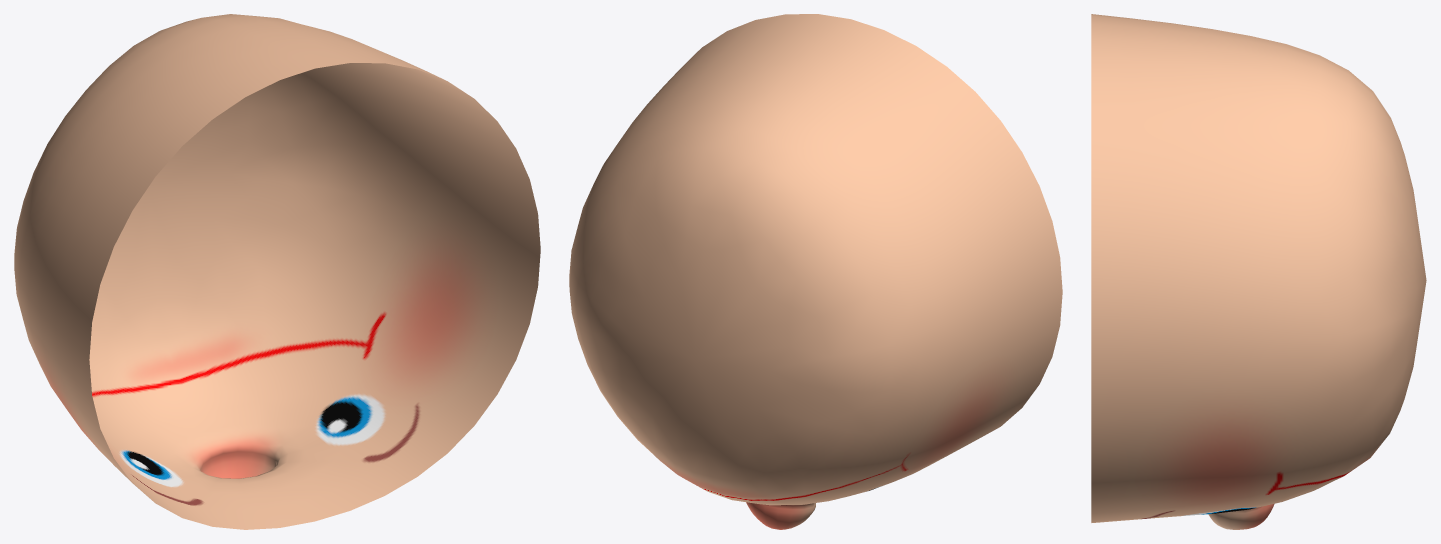
File: BuffoonHeadSkin.obj
3 renders of one model, left to right at view 1: azimuth 30°, elevation 25°; view 2: azimuth 150°, elevation 25°; view 3: azimuth 270°, elevation 25°, orthographic. The views are drawn at different scales.
Visible parts, largest first — view 1: BuffoonHead; view 2: BuffoonHead; view 3: BuffoonHead.
Boxes of the visible parts, x1,y1,x2,y2 form: BuffoonHead: (14, 14, 540, 529); BuffoonHead: (569, 14, 1062, 529); BuffoonHead: (1091, 14, 1426, 529).
Size of the model in its own units: 0.1419 by 0.1461 by 0.0909.
1 material, 1 textured.
